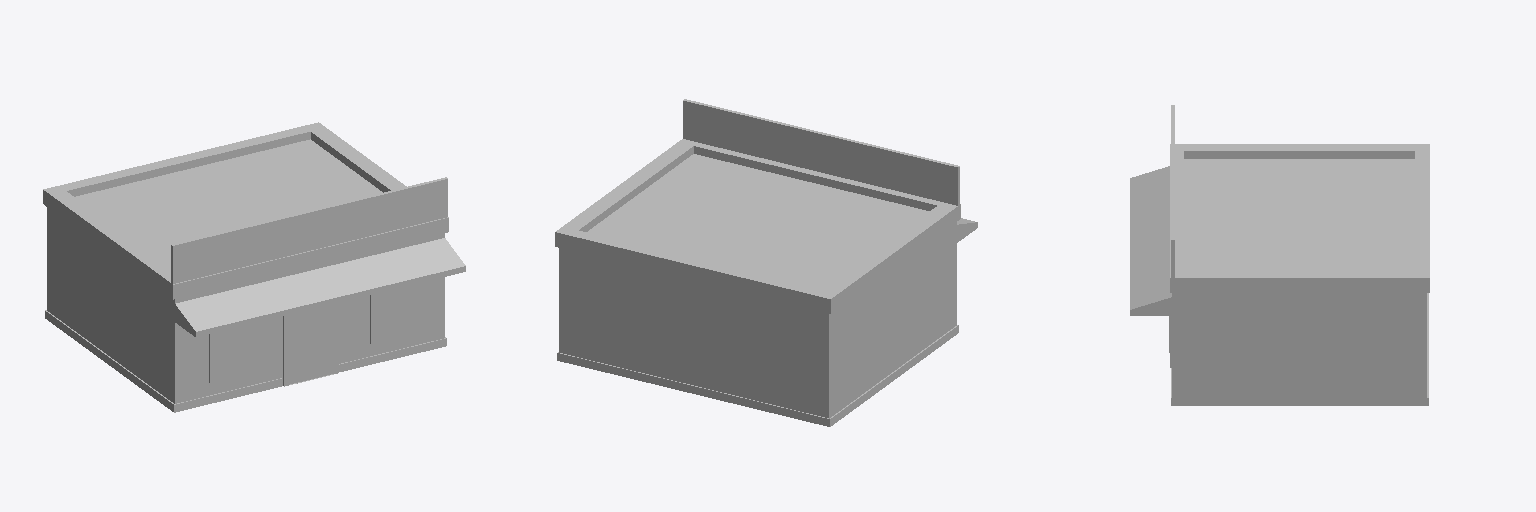
Rendered from drug-store.obj.
The picture shows the model from 3 angles: view 1: azimuth 30°, elevation 25°; view 2: azimuth 150°, elevation 25°; view 3: azimuth 270°, elevation 25°; orthographic projection.
Parts seen in each view (by area): view 1: Building_Drug_Store; view 2: Building_Drug_Store; view 3: Building_Drug_Store.
Boxes of the visible parts, box(x1,y1,x2,y2) form: Building_Drug_Store: box(43, 122, 465, 412); Building_Drug_Store: box(555, 99, 977, 426); Building_Drug_Store: box(1130, 105, 1429, 405).
Bounding box in the file's own units: 442 × 256 × 416.